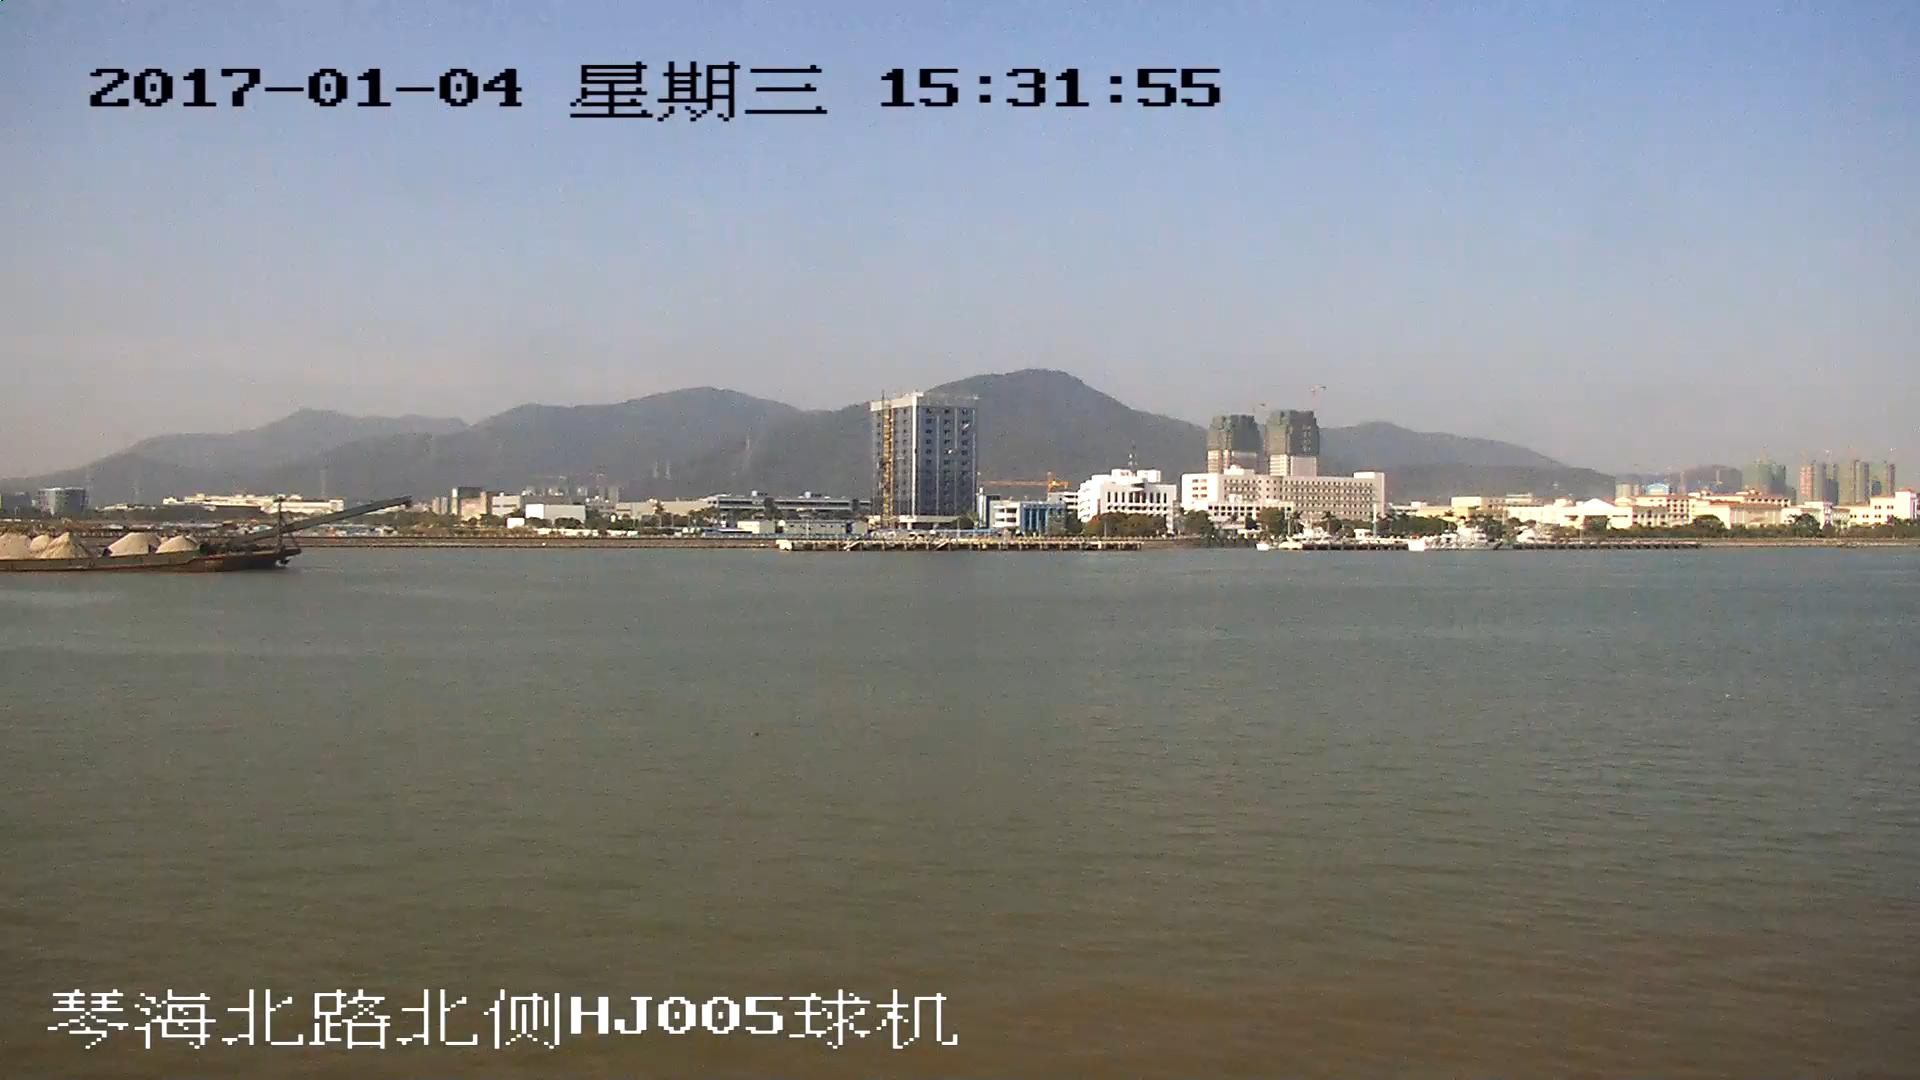ore carrier: (1, 498, 406, 572)
